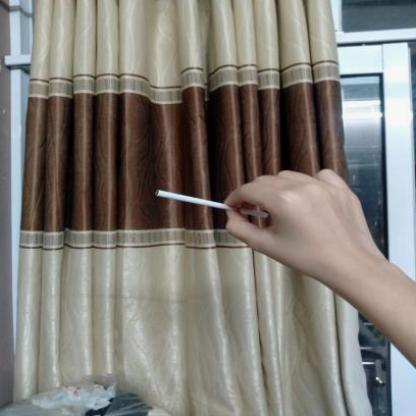cigarette: (151, 187, 269, 221)
